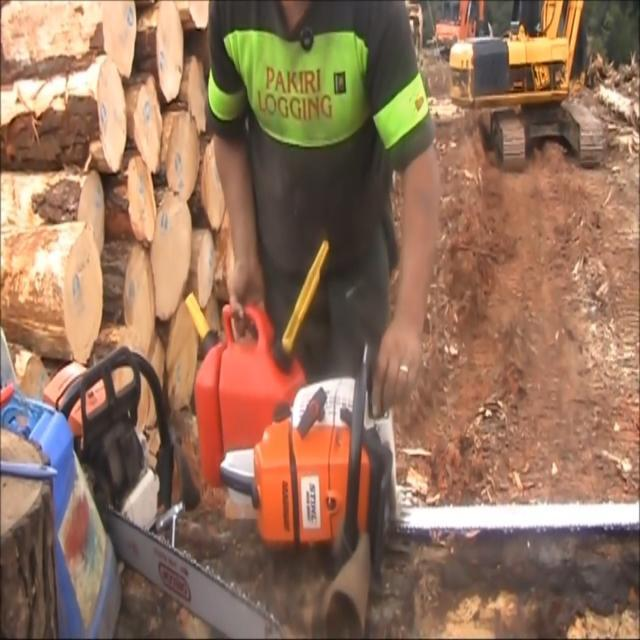Chainsaw: (198, 350, 640, 574), (24, 338, 323, 640)
